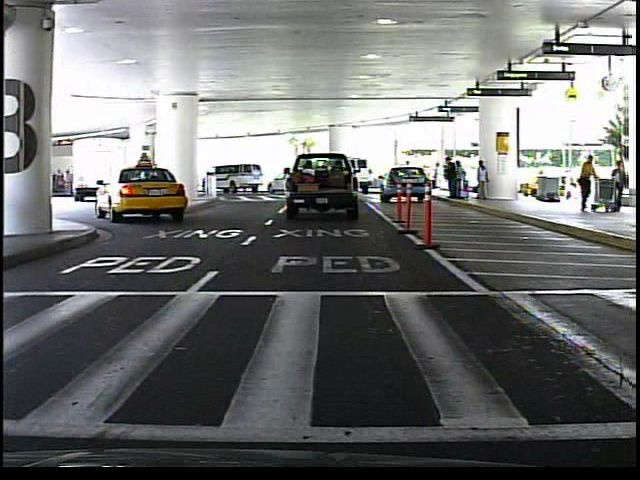person: (575, 153, 600, 217), (611, 157, 631, 214), (402, 158, 417, 193)
